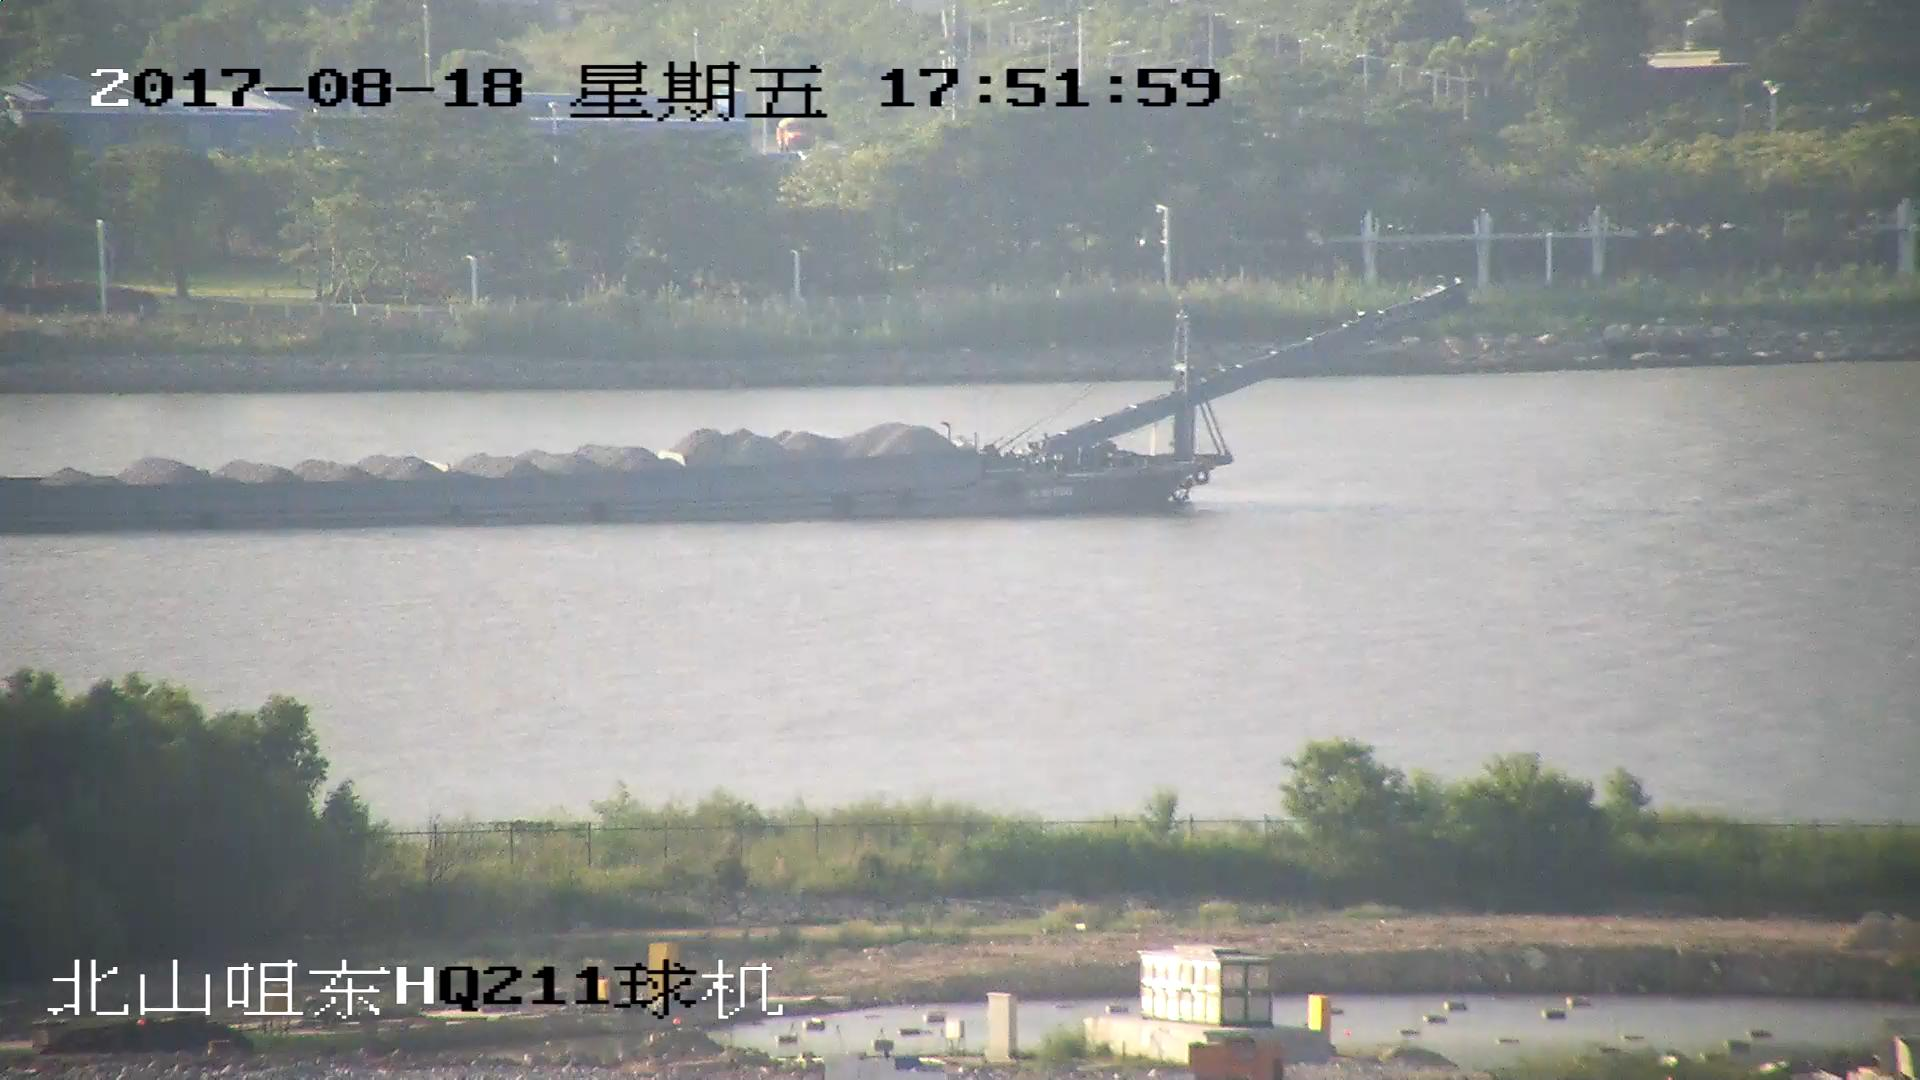ore carrier: (1, 282, 1461, 532)
